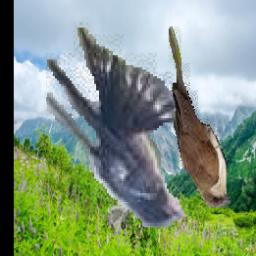Cuckoo: (168, 24, 231, 207)
Swallow: (45, 22, 187, 227)
